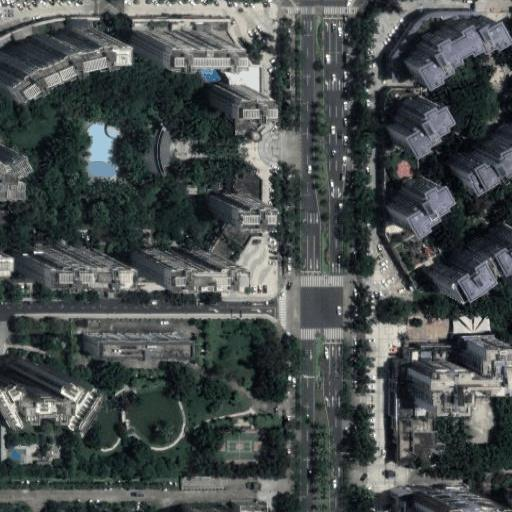building: (397, 345, 454, 469), (402, 7, 498, 80), (413, 340, 512, 408), (390, 9, 477, 85), (430, 221, 512, 292), (0, 347, 93, 398), (0, 28, 92, 72), (450, 124, 512, 184), (387, 94, 438, 148), (386, 175, 436, 229), (132, 26, 216, 56), (133, 237, 214, 266), (17, 240, 106, 265), (93, 331, 191, 352), (420, 489, 482, 512), (446, 308, 488, 333), (203, 193, 243, 219), (151, 122, 171, 170), (212, 89, 251, 113), (218, 496, 269, 512), (0, 141, 17, 183), (487, 488, 511, 511)
